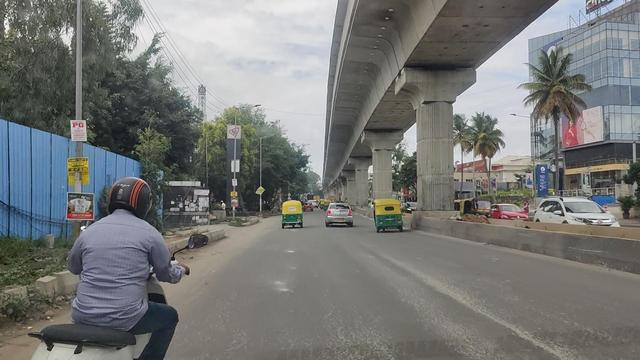LMV: (374, 199, 402, 235), (326, 202, 354, 229), (281, 199, 303, 227)
RoadDamages: (479, 321, 587, 359)
